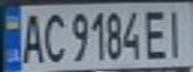1: (87, 8, 106, 61)
4: (121, 7, 145, 61)
8: (103, 7, 127, 61)
9: (66, 8, 90, 63)
A: (18, 9, 45, 64)
C: (39, 8, 69, 64)
E: (142, 6, 172, 61)
I: (163, 4, 193, 60)
